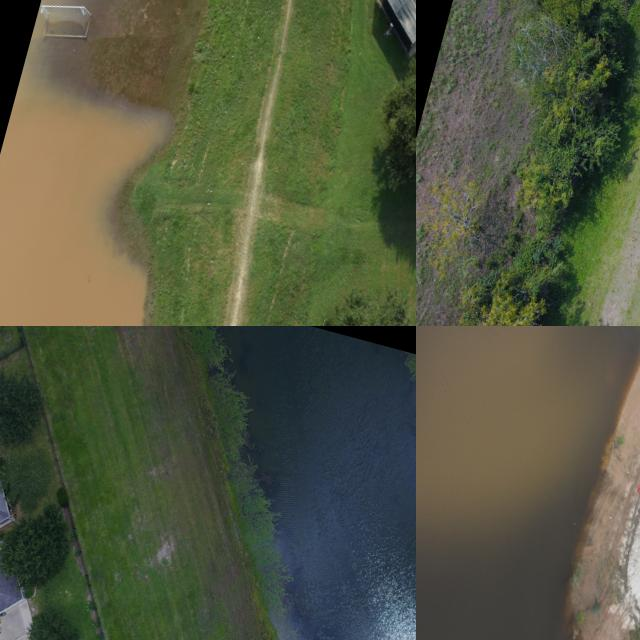fire: (416, 326, 640, 640), (221, 326, 416, 640), (0, 60, 168, 326)
